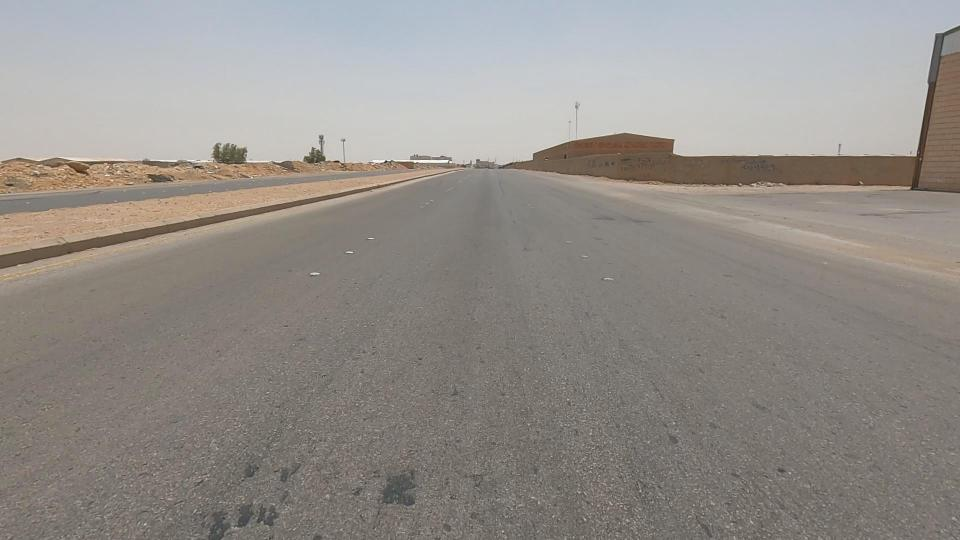GARBAGE: (118, 160, 197, 196)
